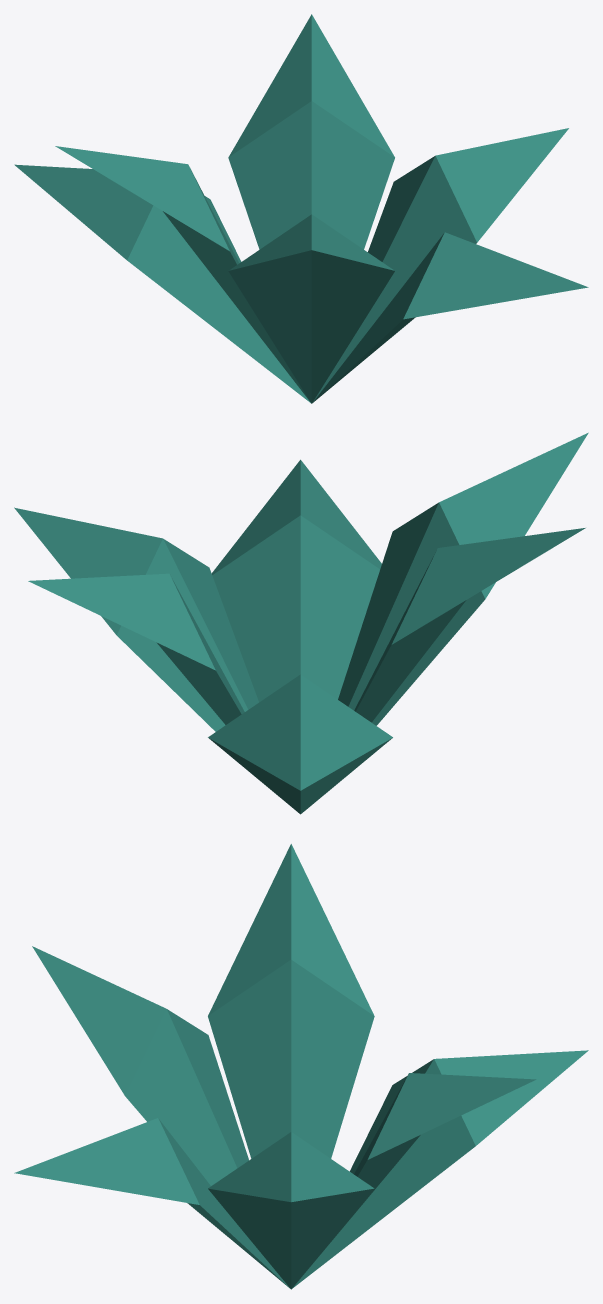
The picture shows the model from 3 angles, top to bottom: view 1: azimuth 30°, elevation 25°; view 2: azimuth 150°, elevation 25°; view 3: azimuth 270°, elevation 25°; orthographic projection. The views are drawn at different scales.
Visible parts, largest first — view 1: 原森林完整植株_5.001; view 2: 原森林完整植株_5.001; view 3: 原森林完整植株_5.001.
Part boxes in pixels (x1,y1,x2,y2): 原森林完整植株_5.001: (14,14,588,403); 原森林完整植株_5.001: (14,432,588,814); 原森林完整植株_5.001: (14,844,588,1289).
Size of the model in its own units: 0.2279 by 0.1357 by 0.2204.
